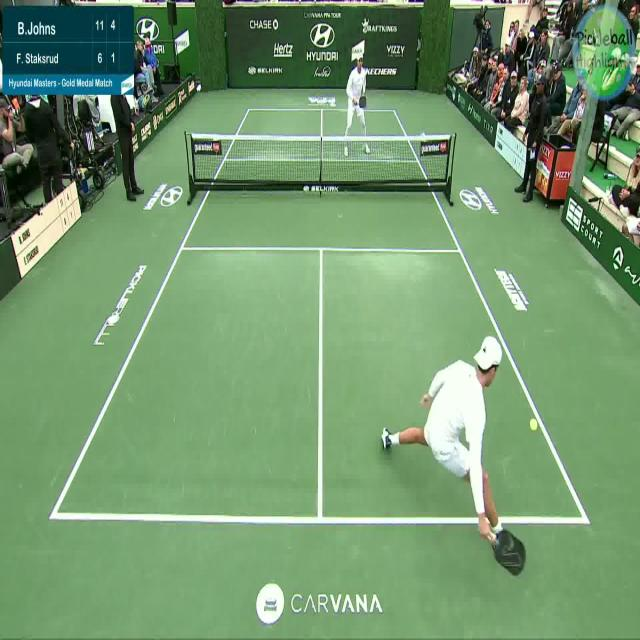Court: (49, 110, 590, 523)
ball: (527, 412, 540, 437)
